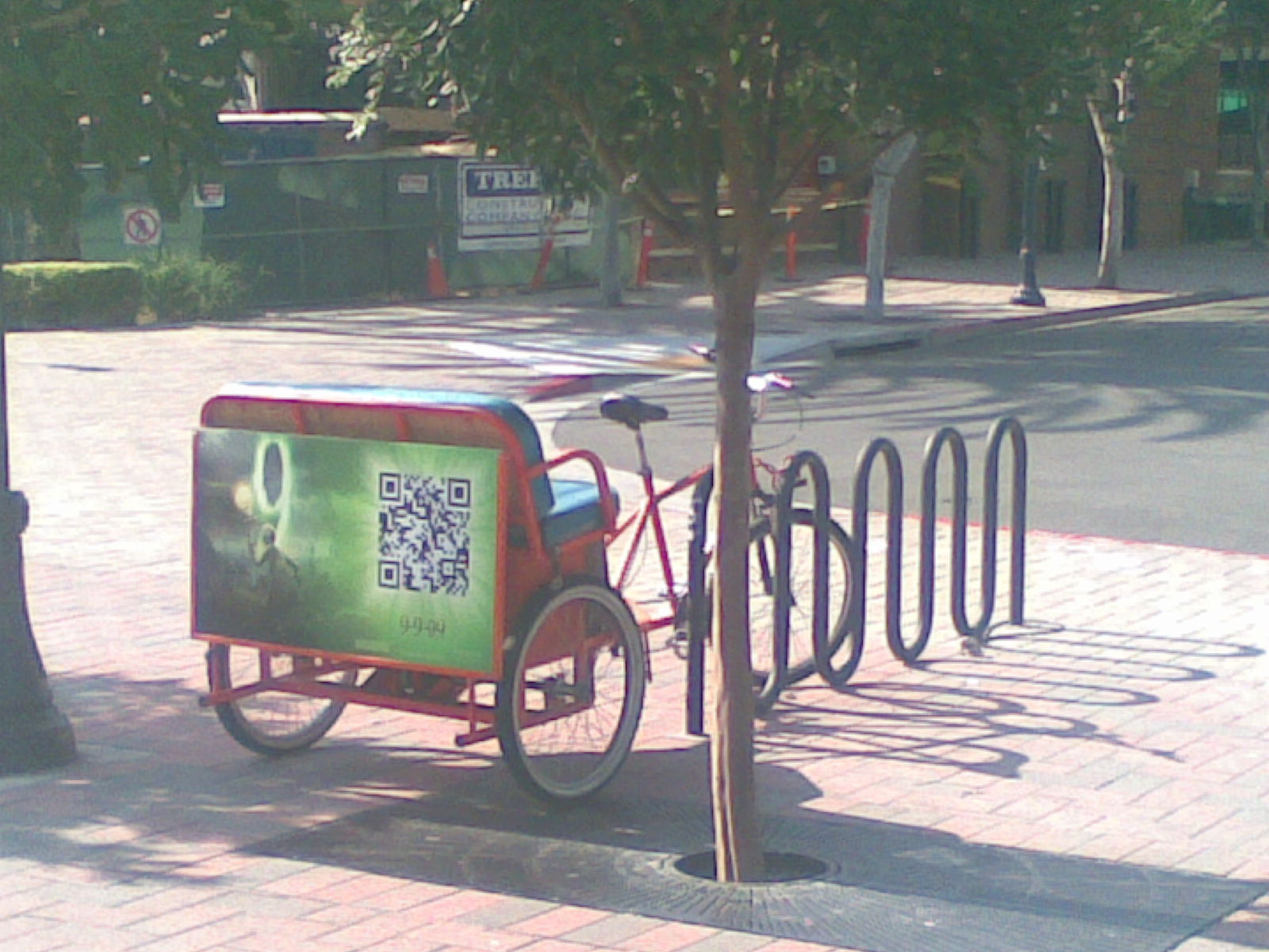QR-CODE: (378, 472, 470, 597)
